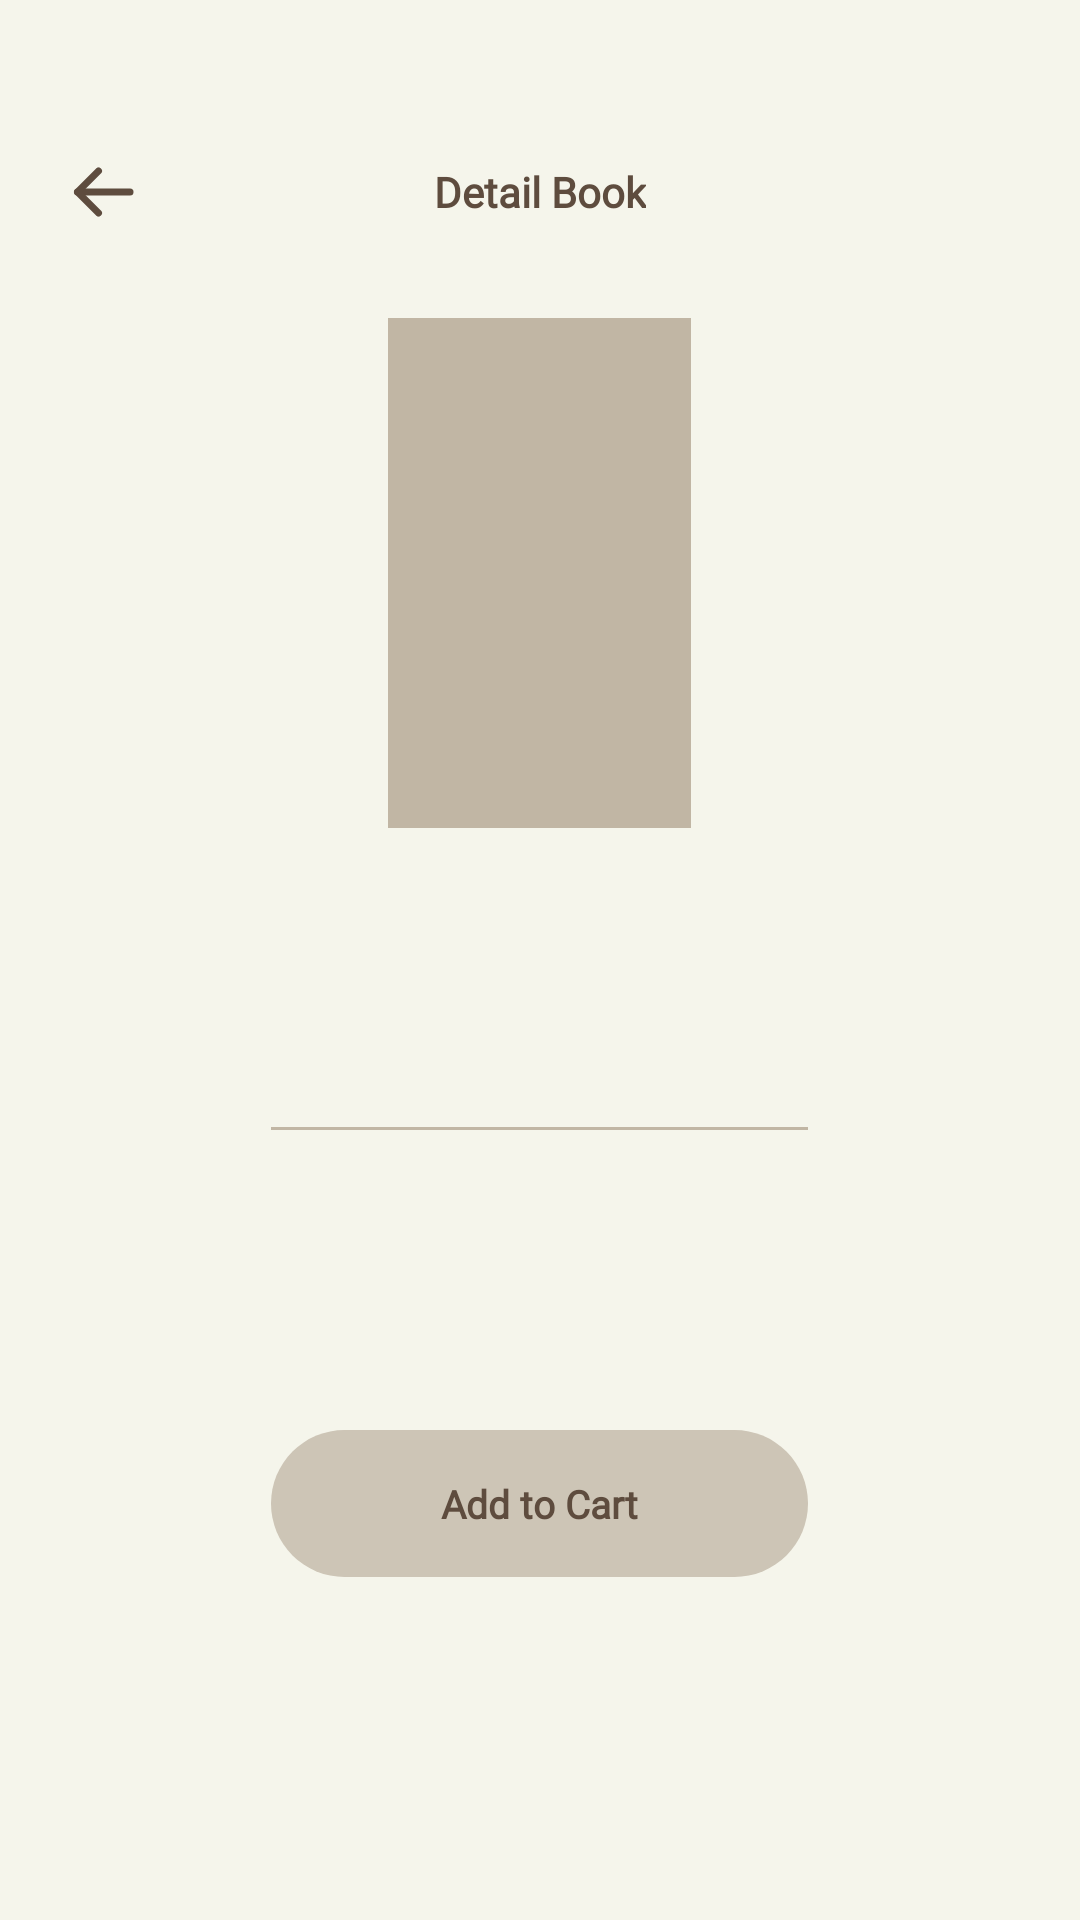

Screen size 1080px x 1920px. Icon name, then its box in pixels as bbox(x1, y1, x2, y2):
Back: bbox(74, 167, 134, 217)
